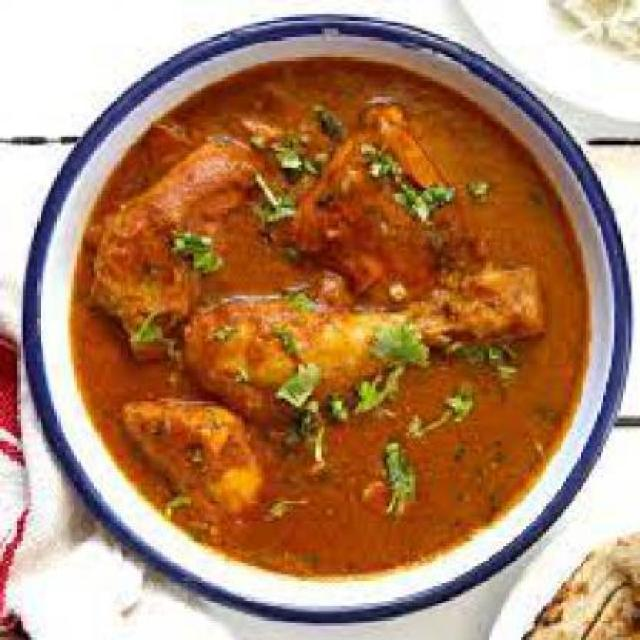CHICKEN CURRY: (71, 58, 591, 580)
